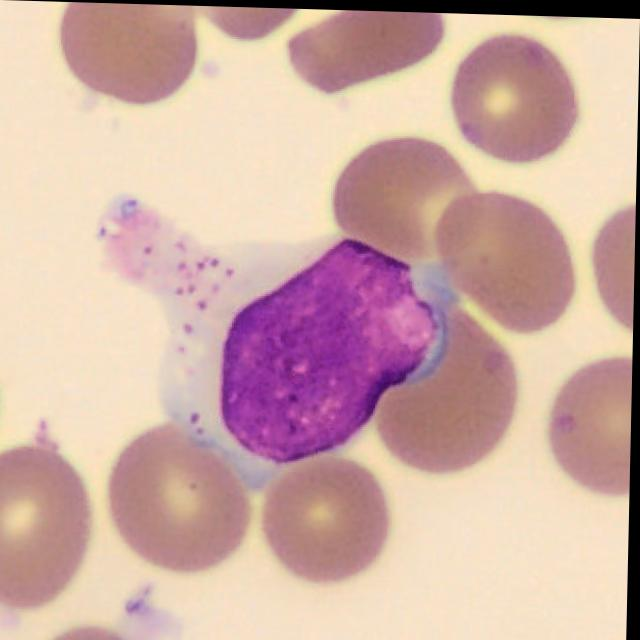Linfocito atipico: (130, 199, 453, 492)
